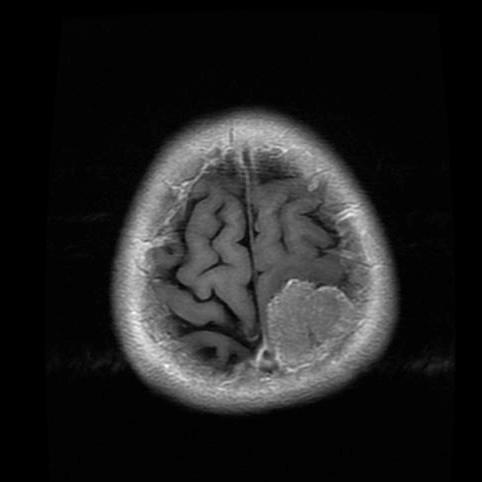Tumour-Meningioma: (240, 252, 360, 377)
